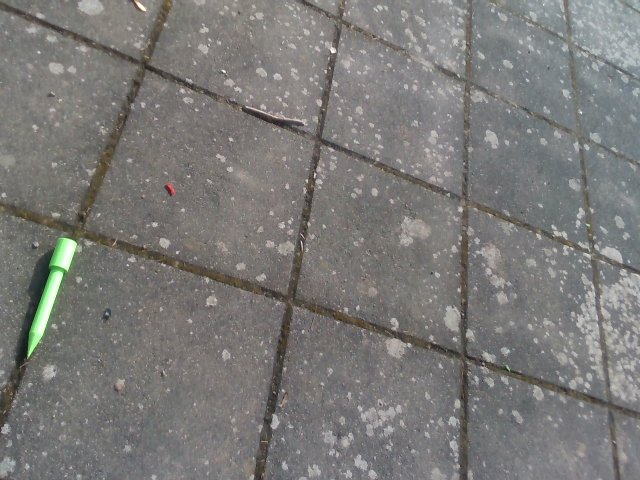Probe: (22, 232, 80, 364)
